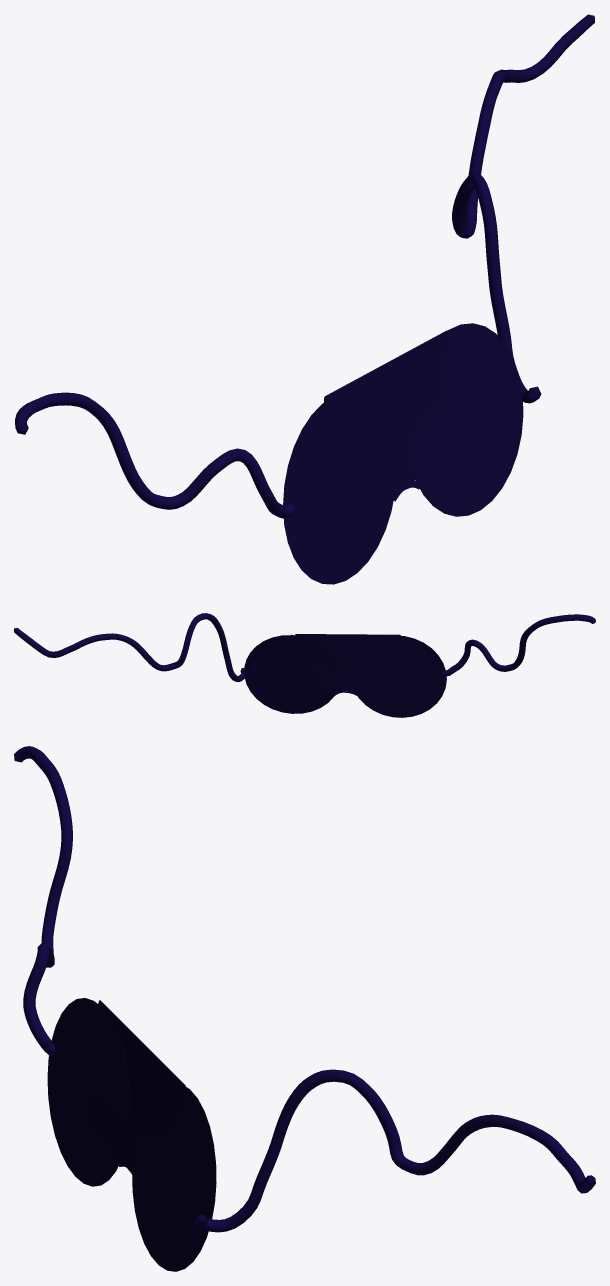
The picture shows the model from 3 angles, top to bottom: view 1: azimuth 30°, elevation 25°; view 2: azimuth 150°, elevation 25°; view 3: azimuth 270°, elevation 25°; orthographic projection. The views are drawn at different scales.
Parts seen in each view (by area): view 1: brush_UnlitHull_g1_b0, brush_Icing_g1_b0; view 2: brush_UnlitHull_g1_b0, brush_Icing_g1_b0, brush_Flat_g1_b0; view 3: brush_UnlitHull_g1_b0, brush_Icing_g1_b0.
Boxes of the visible parts, x1,y1,x2,y2 form: brush_UnlitHull_g1_b0: [283, 323, 523, 584]; brush_Icing_g1_b0: [15, 14, 594, 518]; brush_UnlitHull_g1_b0: [244, 634, 446, 717]; brush_Icing_g1_b0: [14, 613, 595, 682]; brush_Flat_g1_b0: [251, 666, 356, 698]; brush_UnlitHull_g1_b0: [47, 998, 216, 1271]; brush_Icing_g1_b0: [14, 746, 595, 1232].
Size of the model in its own units: 5.62 by 1.72 by 3.34.
